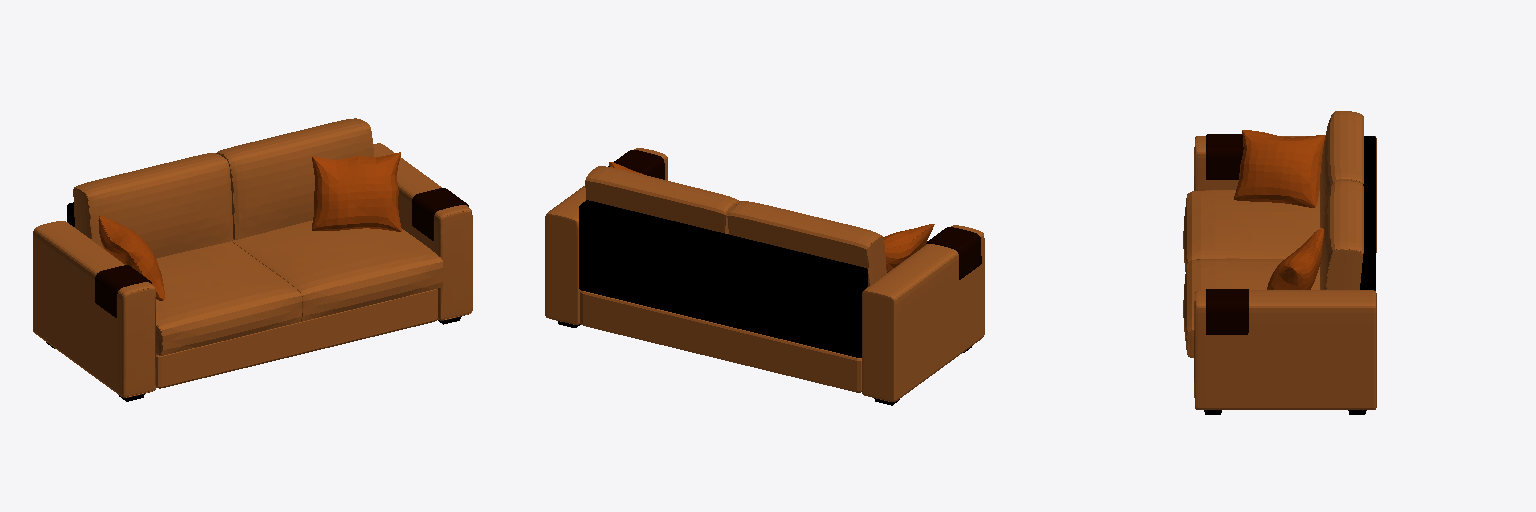
File: Sofa.obj
The picture shows the model from 3 angles: view 1: azimuth 30°, elevation 25°; view 2: azimuth 150°, elevation 25°; view 3: azimuth 270°, elevation 25°; orthographic projection.
Parts seen in each view (by area): view 1: Pillow_Big_Bottom, Pillow_Big_Back, Sidewalls, Frame_bottom, pillow_01, Onlay_wood, pillow_02; view 2: Back_cover, Sidewalls, Pillow_Big_Back, Frame_bottom, Onlay_wood, pillow_02; view 3: Sidewalls, Pillow_Big_Bottom, Pillow_Big_Back, pillow_02, Onlay_wood, pillow_01, Back_cover.
Boxes of the visible parts, x1,y1,x2,y2 form: Pillow_Big_Bottom: [156, 220, 442, 355]; Pillow_Big_Back: [73, 118, 373, 258]; Sidewalls: [33, 143, 472, 397]; Frame_bottom: [156, 289, 437, 388]; pillow_01: [312, 152, 401, 231]; Onlay_wood: [95, 188, 468, 317]; pillow_02: [98, 216, 164, 300]; Back_cover: [579, 200, 867, 357]; Sidewalls: [545, 148, 984, 401]; Pillow_Big_Back: [585, 166, 886, 286]; Frame_bottom: [580, 290, 861, 392]; Onlay_wood: [608, 150, 981, 279]; pillow_02: [883, 224, 934, 272]; Sidewalls: [1194, 136, 1376, 409]; Pillow_Big_Bottom: [1183, 190, 1320, 357]; Pillow_Big_Back: [1320, 111, 1363, 289]; pillow_02: [1234, 130, 1325, 207]; Onlay_wood: [1206, 134, 1248, 334]; pillow_01: [1267, 228, 1323, 289]; Back_cover: [1360, 136, 1375, 290].
Size of the model in its own units: 208 by 87.79 by 98.22.